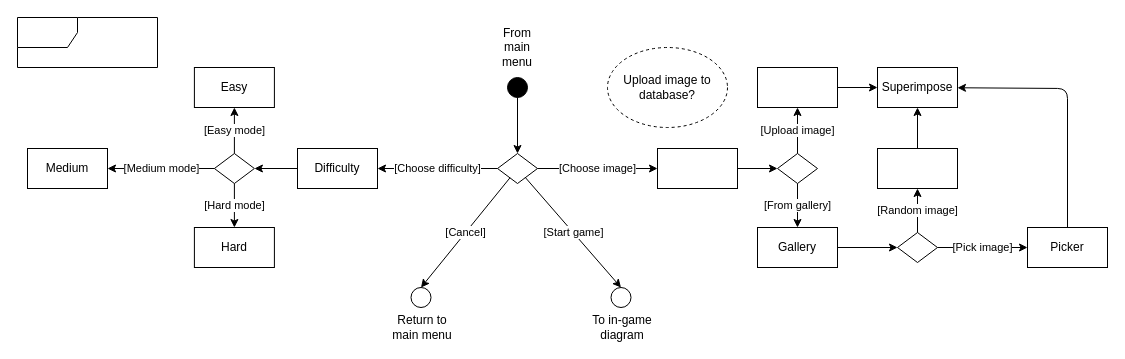
Some shapes in this 1125 by 359 pixel diagram are drawn without their labels. The shapes that lost their labels are listed below. From the top down, each one's box as (x1, y1, x2, y2) in pixels, then its label:
(16, 16, 158, 68): Game options
(756, 66, 838, 108): Upload transformer
(656, 148, 738, 188): Image
(876, 148, 958, 188): Randomizer
